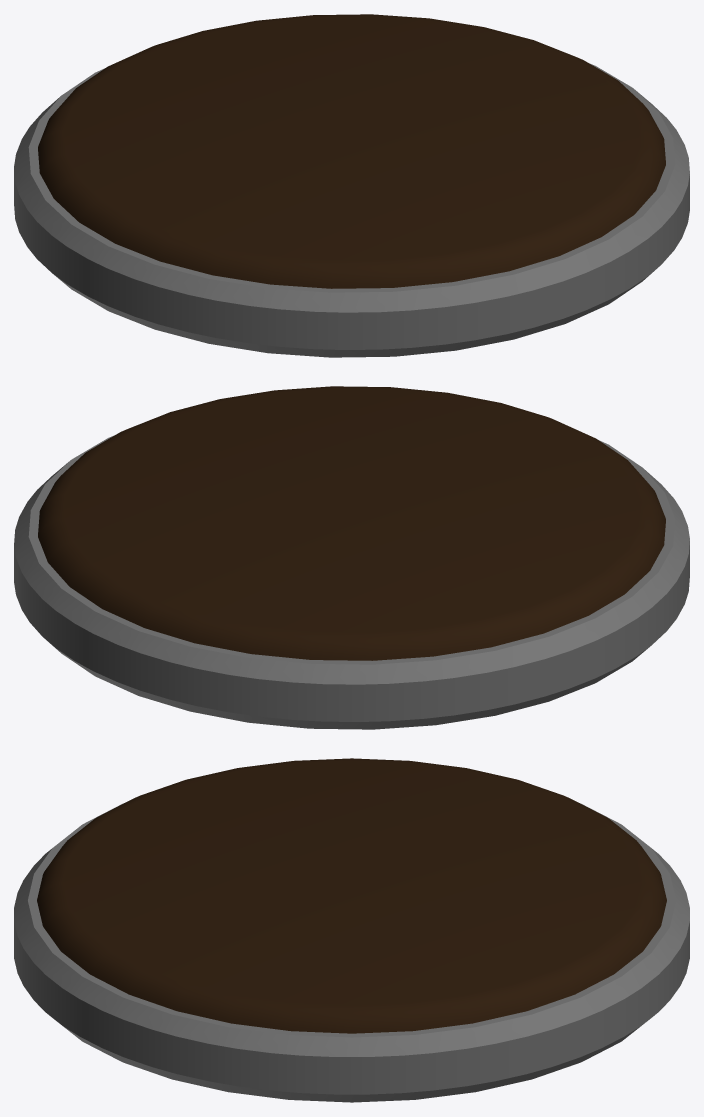
3 views of the same model, one above another, from view 1: azimuth 30°, elevation 25°; view 2: azimuth 150°, elevation 25°; view 3: azimuth 270°, elevation 25° (orthographic).
Visible parts, largest first — view 1: Circle.001, Circle; view 2: Circle.001, Circle; view 3: Circle.001, Circle.
Part boxes in pixels (x1=…): Circle.001: x1=38, y1=14, x2=665, y2=288; Circle: x1=14, y1=63, x2=689, y2=357; Circle.001: x1=38, y1=386, x2=665, y2=660; Circle: x1=14, y1=435, x2=689, y2=729; Circle.001: x1=37, y1=758, x2=666, y2=1033; Circle: x1=14, y1=803, x2=689, y2=1102.
Bounding box in the file's own units: 19.91 × 2.69 × 19.91.
